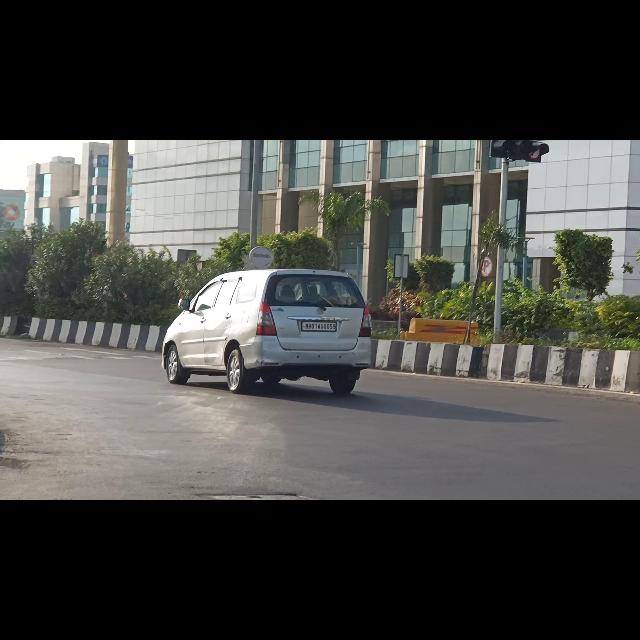number-plate: (302, 319, 341, 333)
vehicles: (161, 266, 373, 398)
